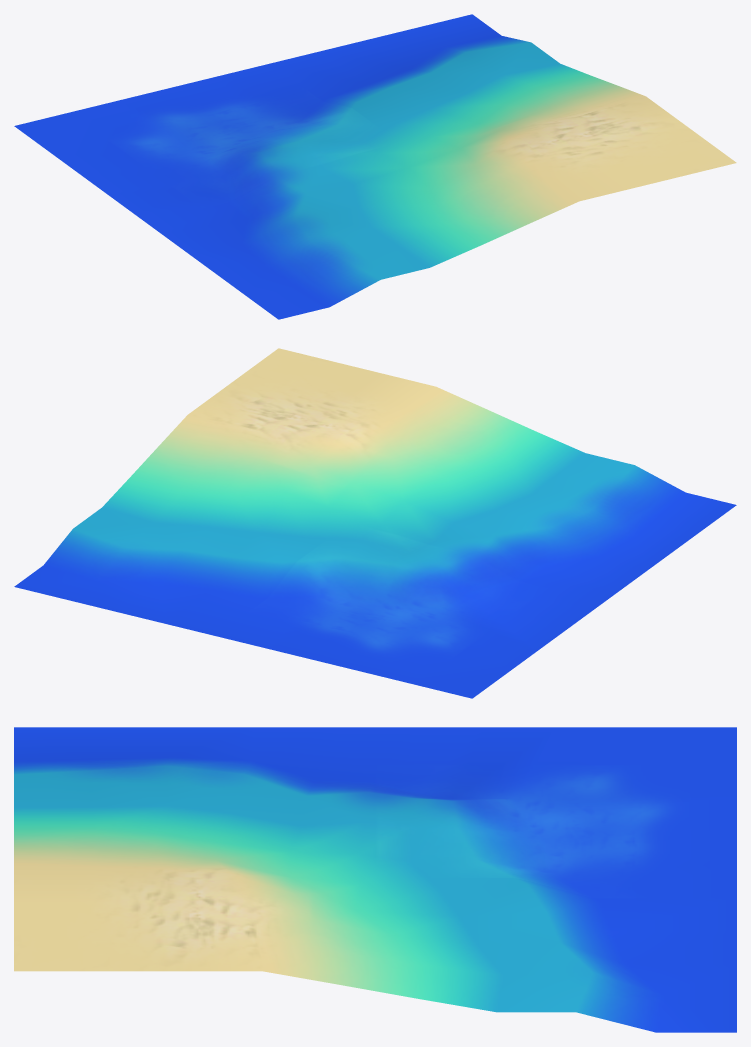
The model's file is land_beach00_g.fbx.
3 renders of one model, top to bottom at view 1: azimuth 30°, elevation 25°; view 2: azimuth 150°, elevation 25°; view 3: azimuth 270°, elevation 25°, orthographic. The views are drawn at different scales.
Visible parts, largest first — view 1: land_beach00_g; view 2: land_beach00_g; view 3: land_beach00_g.
Part boxes in pixels (x1,y1,x2,y2): land_beach00_g: (14, 14, 736, 319); land_beach00_g: (14, 348, 736, 698); land_beach00_g: (14, 727, 736, 1032).
Bounding box in the file's own units: 48 × 4.5 × 48.
